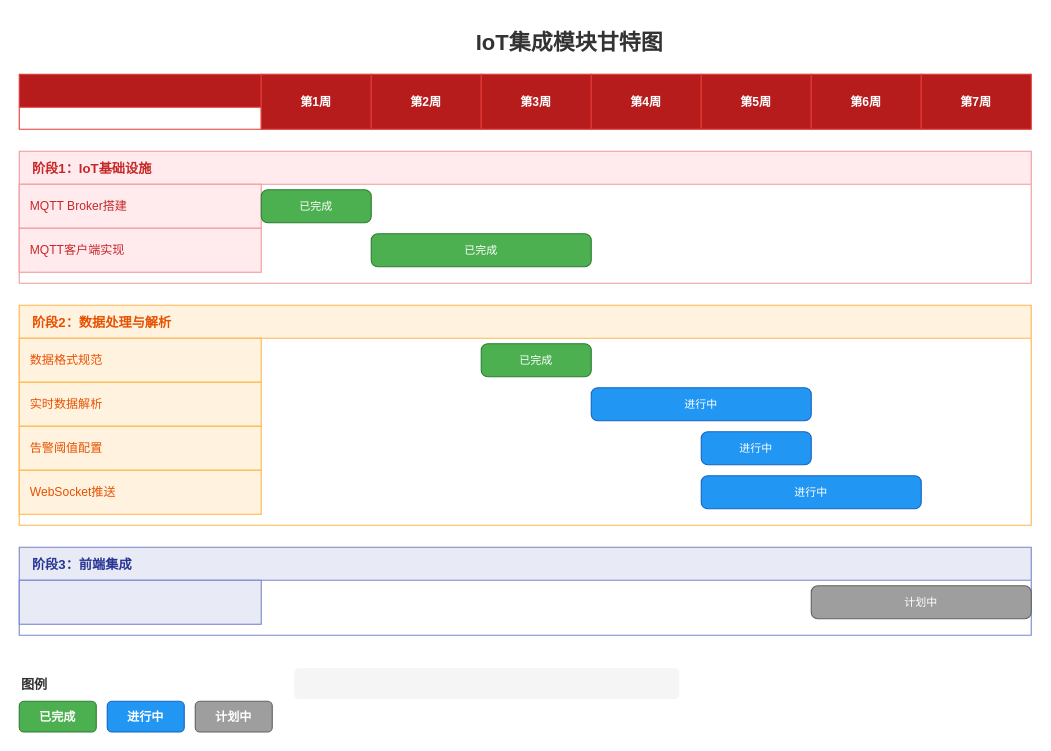
The diagram is 1051 pixels wide and 751 high, and some of its shapes have lost their labels. The centre of each missing label's shape, as x and y in pixels:
任务: (x=139, y=101)
设备管理界面: (x=139, y=601)
颜色 = 状态：绿色=已完成 蓝色=进行中 灰色=计划中: (x=486, y=683)
